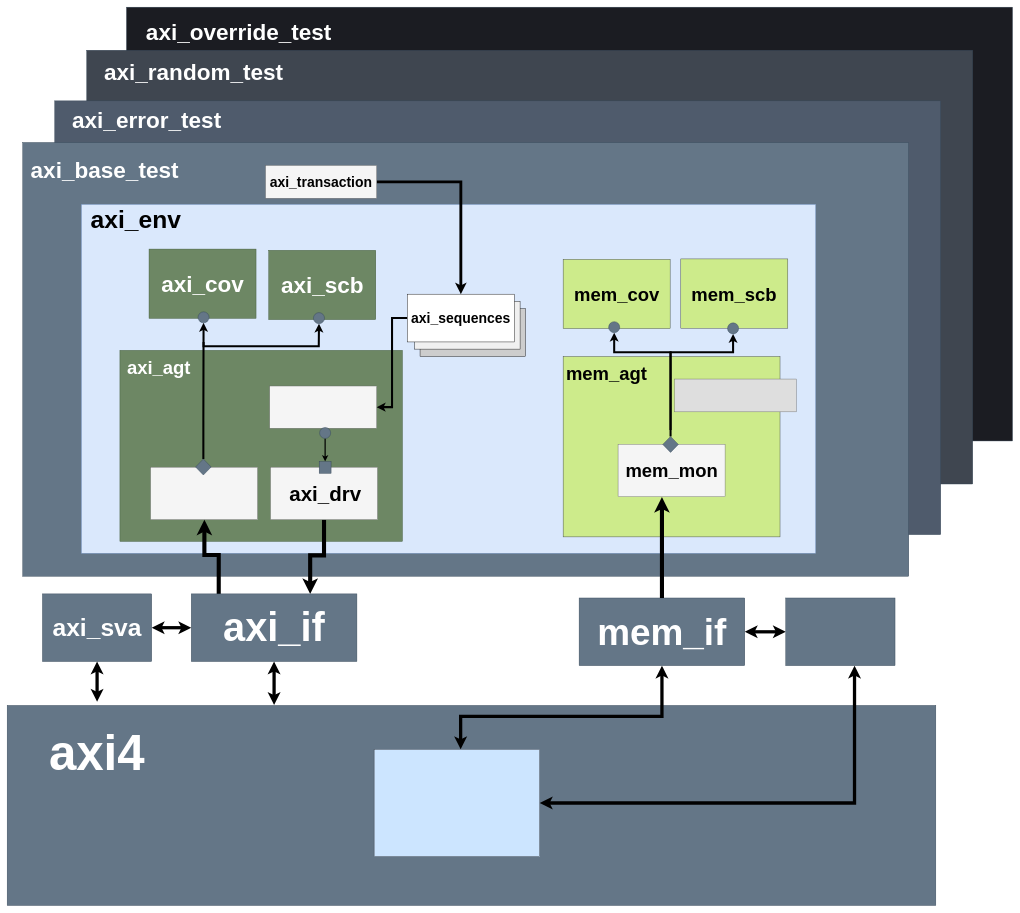
Image size: 1020x913. Some labels were removed from this diagram. The shapes that lost their labels are listed below. From the top down, each one's centre as x and y in pixels, then its label:
At point (323, 407): "axi_seqr".
At point (735, 395): "mem_transaction".
At point (204, 493): "axi_mon".
At point (840, 632): "mem_sva".
At point (457, 803): "axi4_memory".
